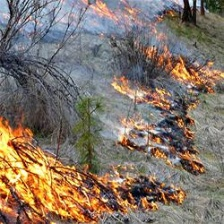fire: (117, 26, 215, 184), (1, 124, 124, 203)
